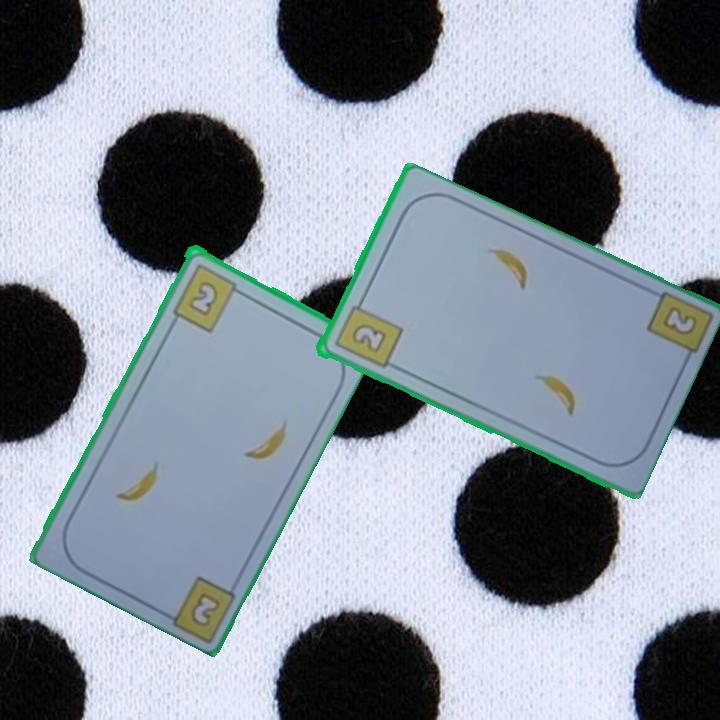2b: (169, 259, 247, 334), (330, 294, 405, 371), (662, 306, 697, 336), (190, 592, 220, 626)
